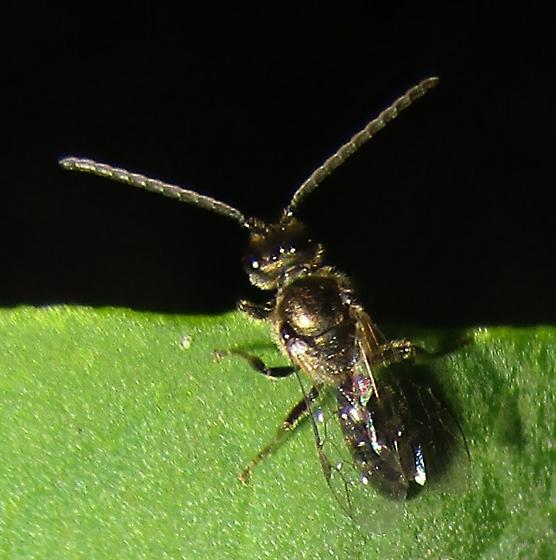Lasioglossum: (66, 63, 516, 526)
